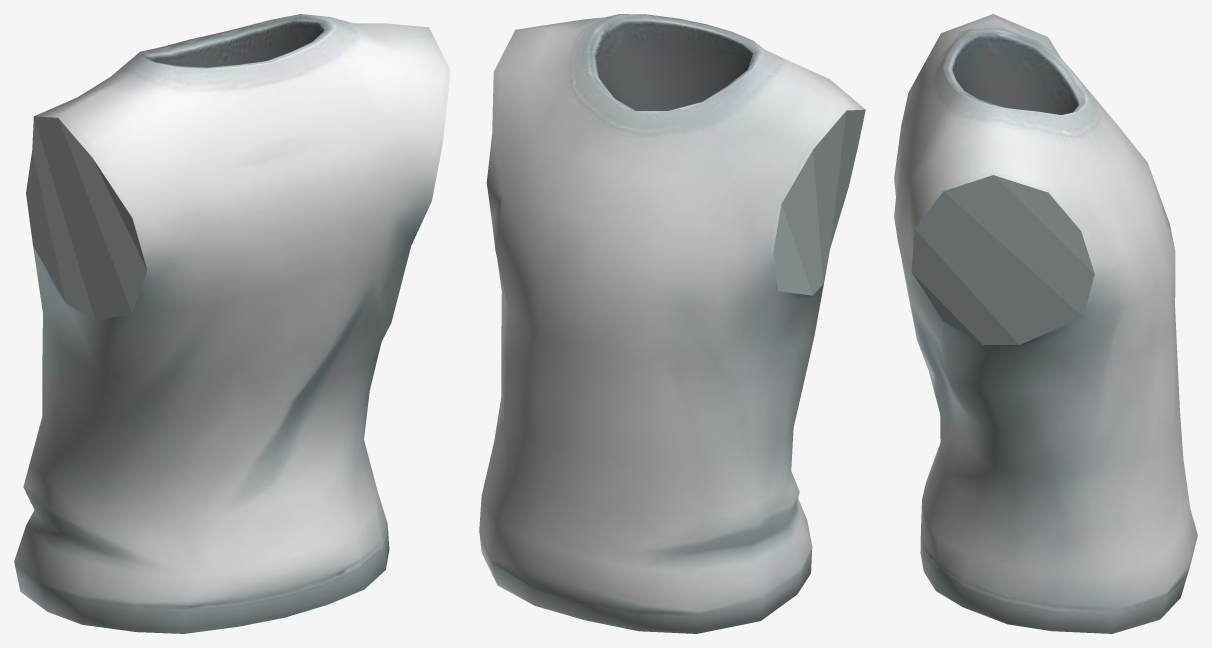
The model's file is male_body.glb.
3 views of the same model, side by side, from view 1: azimuth 30°, elevation 25°; view 2: azimuth 150°, elevation 25°; view 3: azimuth 270°, elevation 25° (orthographic). The views are drawn at different scales.
Parts seen in each view (by area): view 1: Wolf3D_Outfit_Top; view 2: Wolf3D_Outfit_Top; view 3: Wolf3D_Outfit_Top.
Boxes of the visible parts, bbox=[...] form: Wolf3D_Outfit_Top: bbox=[14, 14, 450, 633]; Wolf3D_Outfit_Top: bbox=[479, 14, 865, 633]; Wolf3D_Outfit_Top: bbox=[894, 14, 1197, 633].
Size of the model in its own units: 0.5501 by 0.8095 by 0.4386.
Materials: 1 (1 with a texture image).
